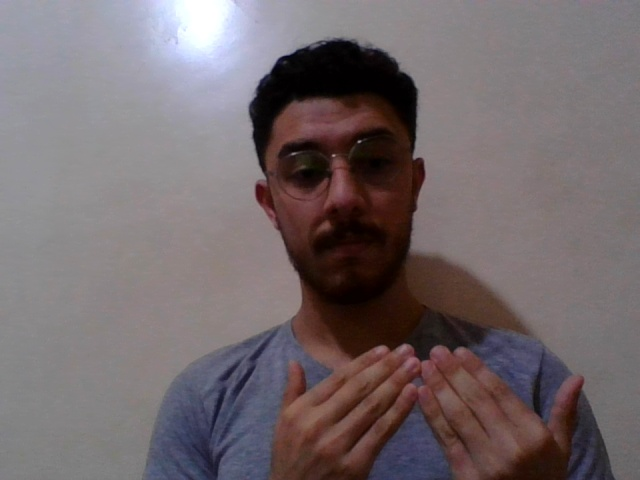Thank You: (238, 317, 607, 480)
